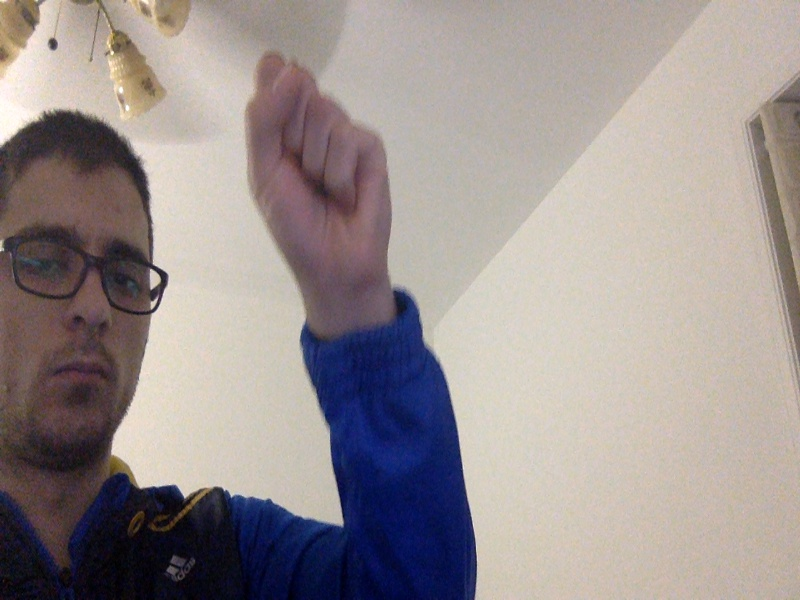0-hand: (248, 51, 394, 270)
